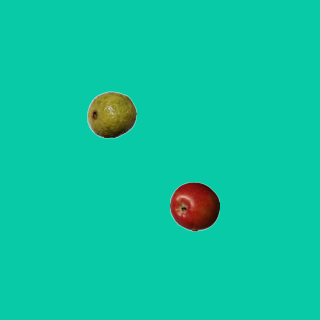Apple Braeburn: (169, 181, 219, 231)
Guava: (86, 89, 136, 139)
